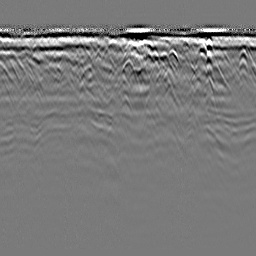cavity: (120, 56, 137, 82)
